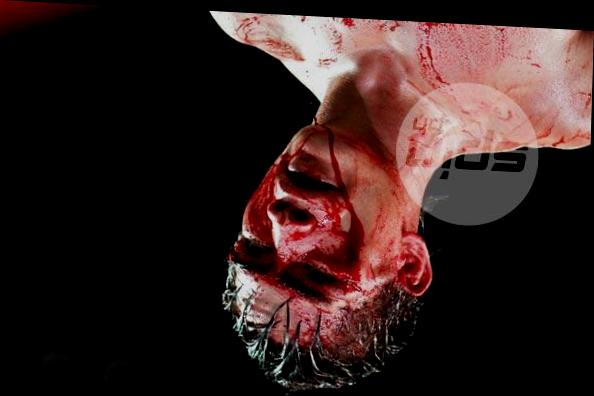Fire: (210, 9, 594, 339)
